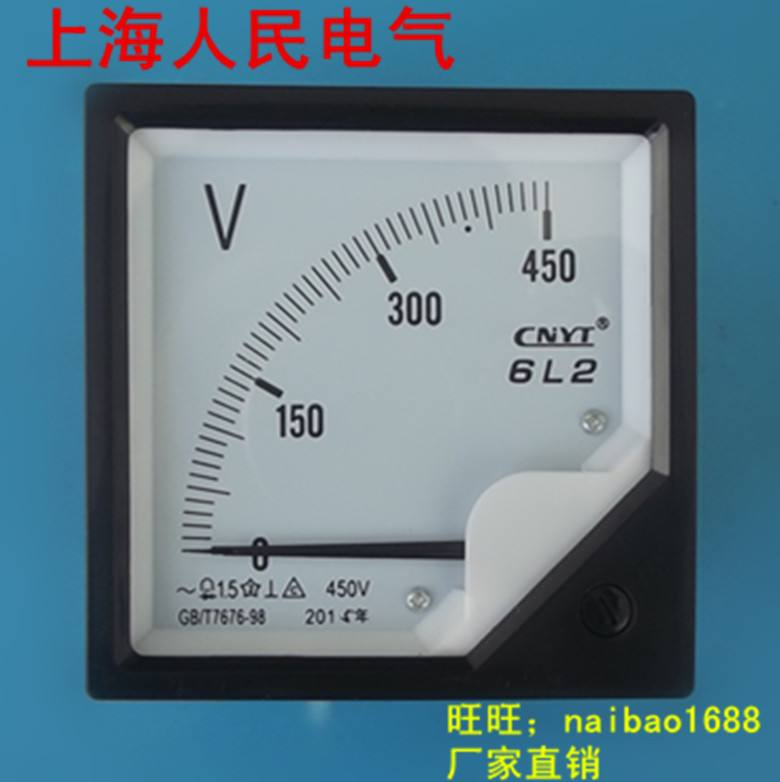pointer: (130, 127, 653, 660)
